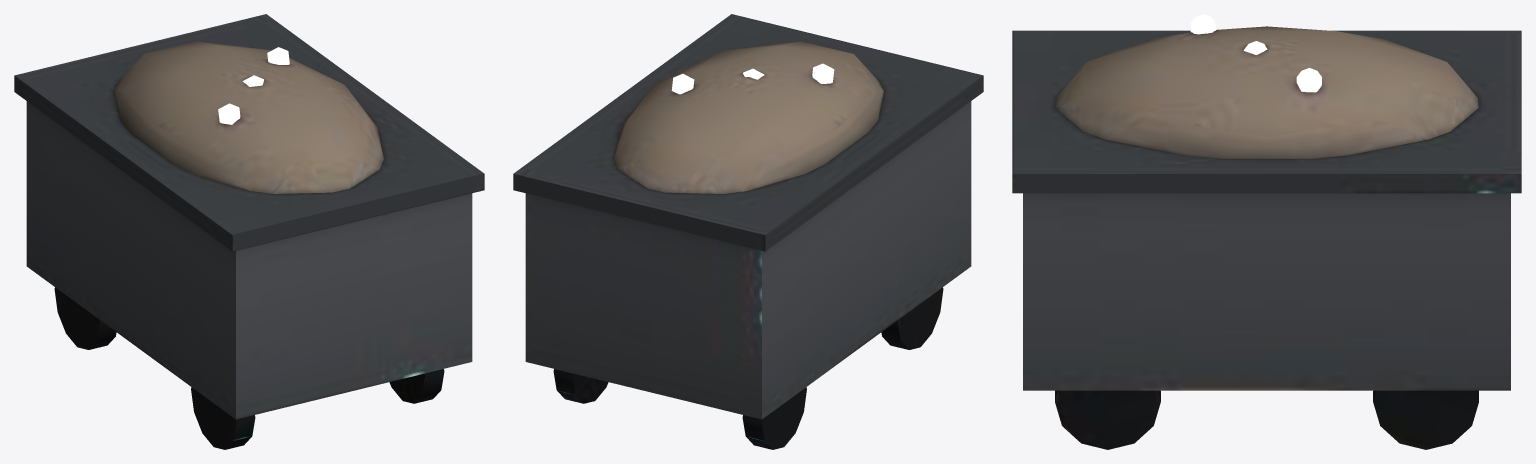
Rendered from vagoneta_mina.glb.
3 renders of one model, left to right at view 1: azimuth 30°, elevation 25°; view 2: azimuth 150°, elevation 25°; view 3: azimuth 270°, elevation 25°, orthographic. The views are drawn at different scales.
Visible parts, largest first — view 1: vagoneta_mina; view 2: vagoneta_mina; view 3: vagoneta_mina.
Boxes of the visible parts, bbox=[...] form: vagoneta_mina: bbox=[14, 14, 484, 449]; vagoneta_mina: bbox=[513, 14, 983, 449]; vagoneta_mina: bbox=[1012, 14, 1521, 449].
Size of the model in its own units: 1.6 by 1.82 by 2.4.
1 material, 1 textured.
